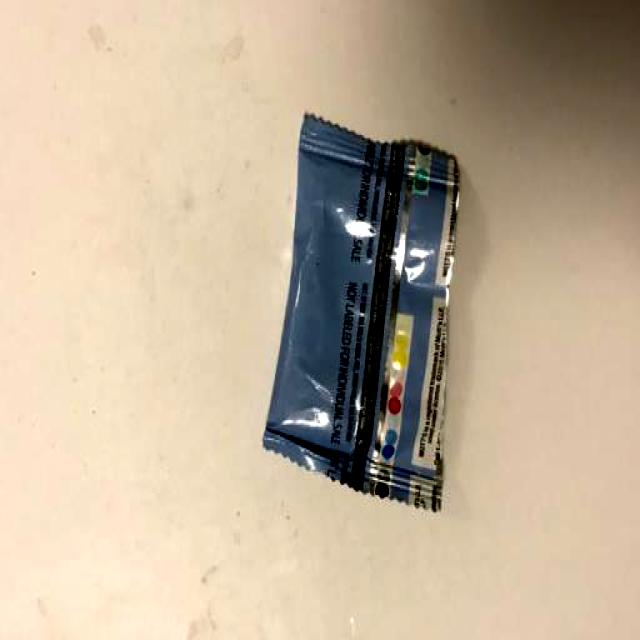Trash: (282, 116, 461, 504)
